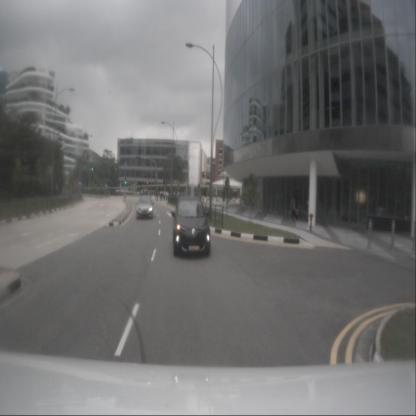human-pedestrian-adult: (289, 196, 298, 219), (165, 191, 168, 201), (164, 191, 166, 200)
vehicle-car: (173, 196, 211, 258), (136, 194, 152, 218)
